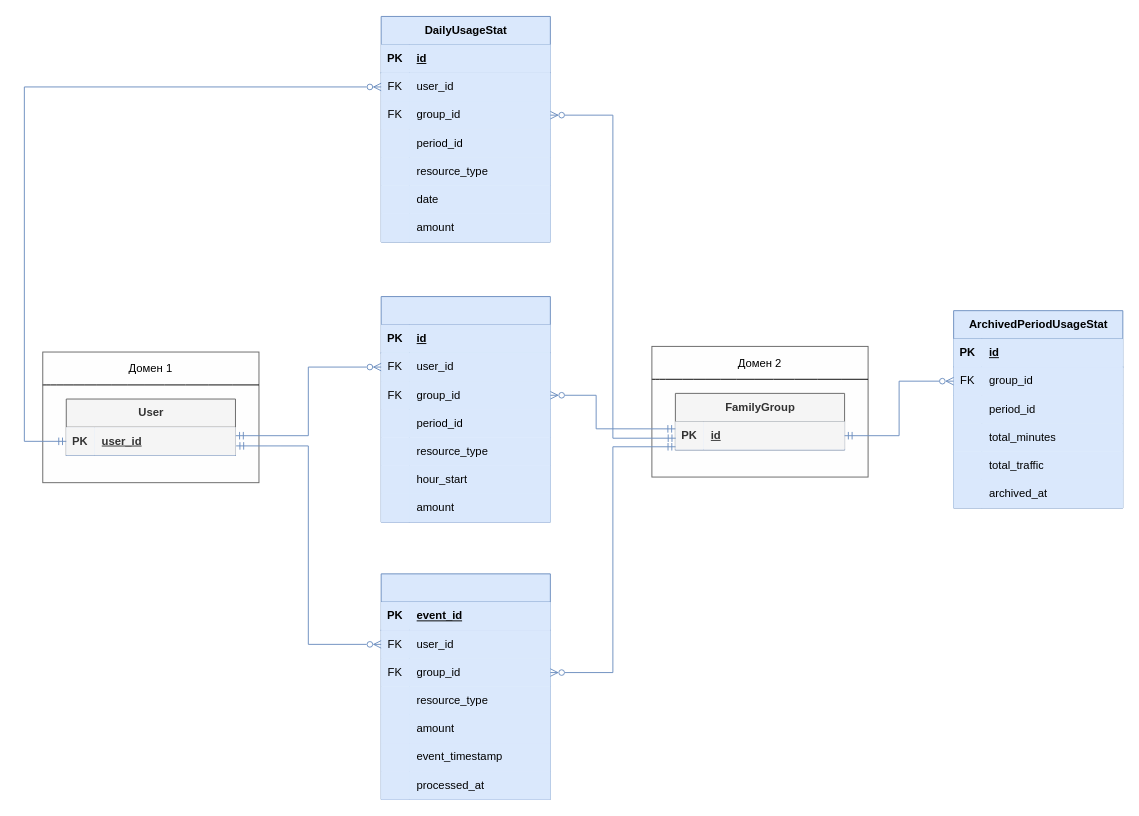
Image size: 1139x816. Some labels were removed from this diagram. The box of each missing label's shape, as (x1, y1, x2, y2) in pixels:
ConsumptionEvent: (380, 573, 550, 799)
HourlyUsageStat: (380, 296, 550, 522)
